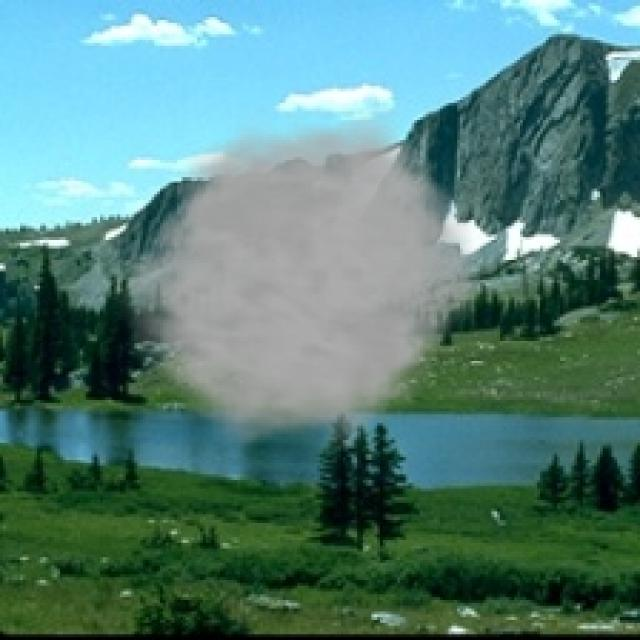smoke: (109, 103, 492, 448)
